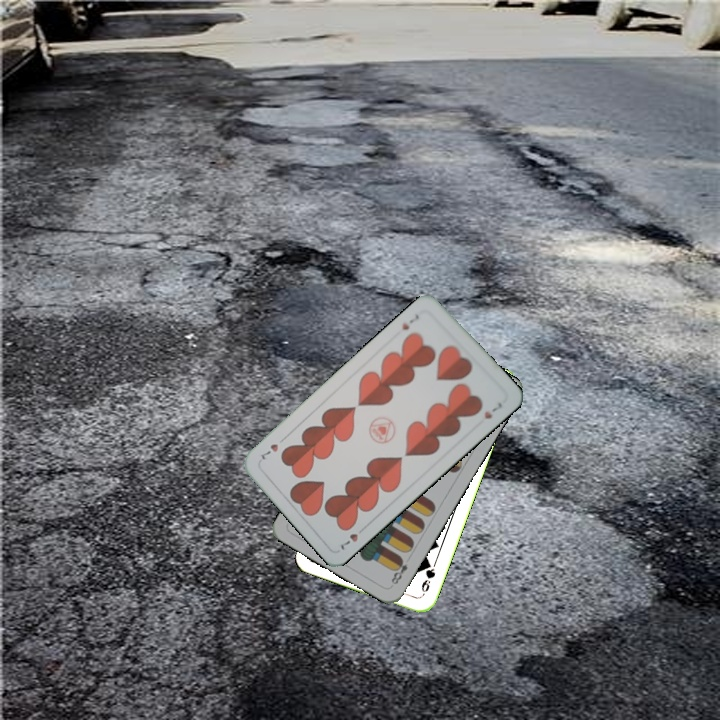E8: (387, 554, 411, 587)
G9: (417, 558, 438, 599)
H7: (336, 522, 368, 553), (398, 310, 422, 333)
